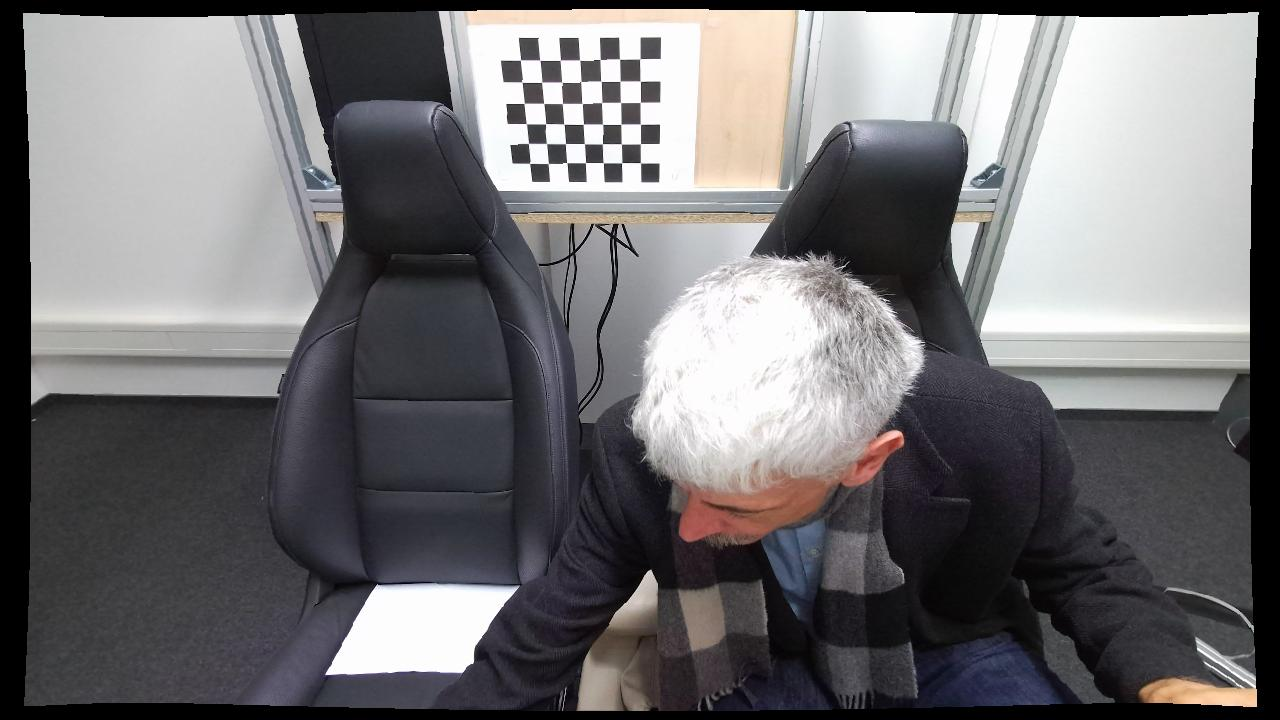Distracted: (422, 248, 1104, 710)
